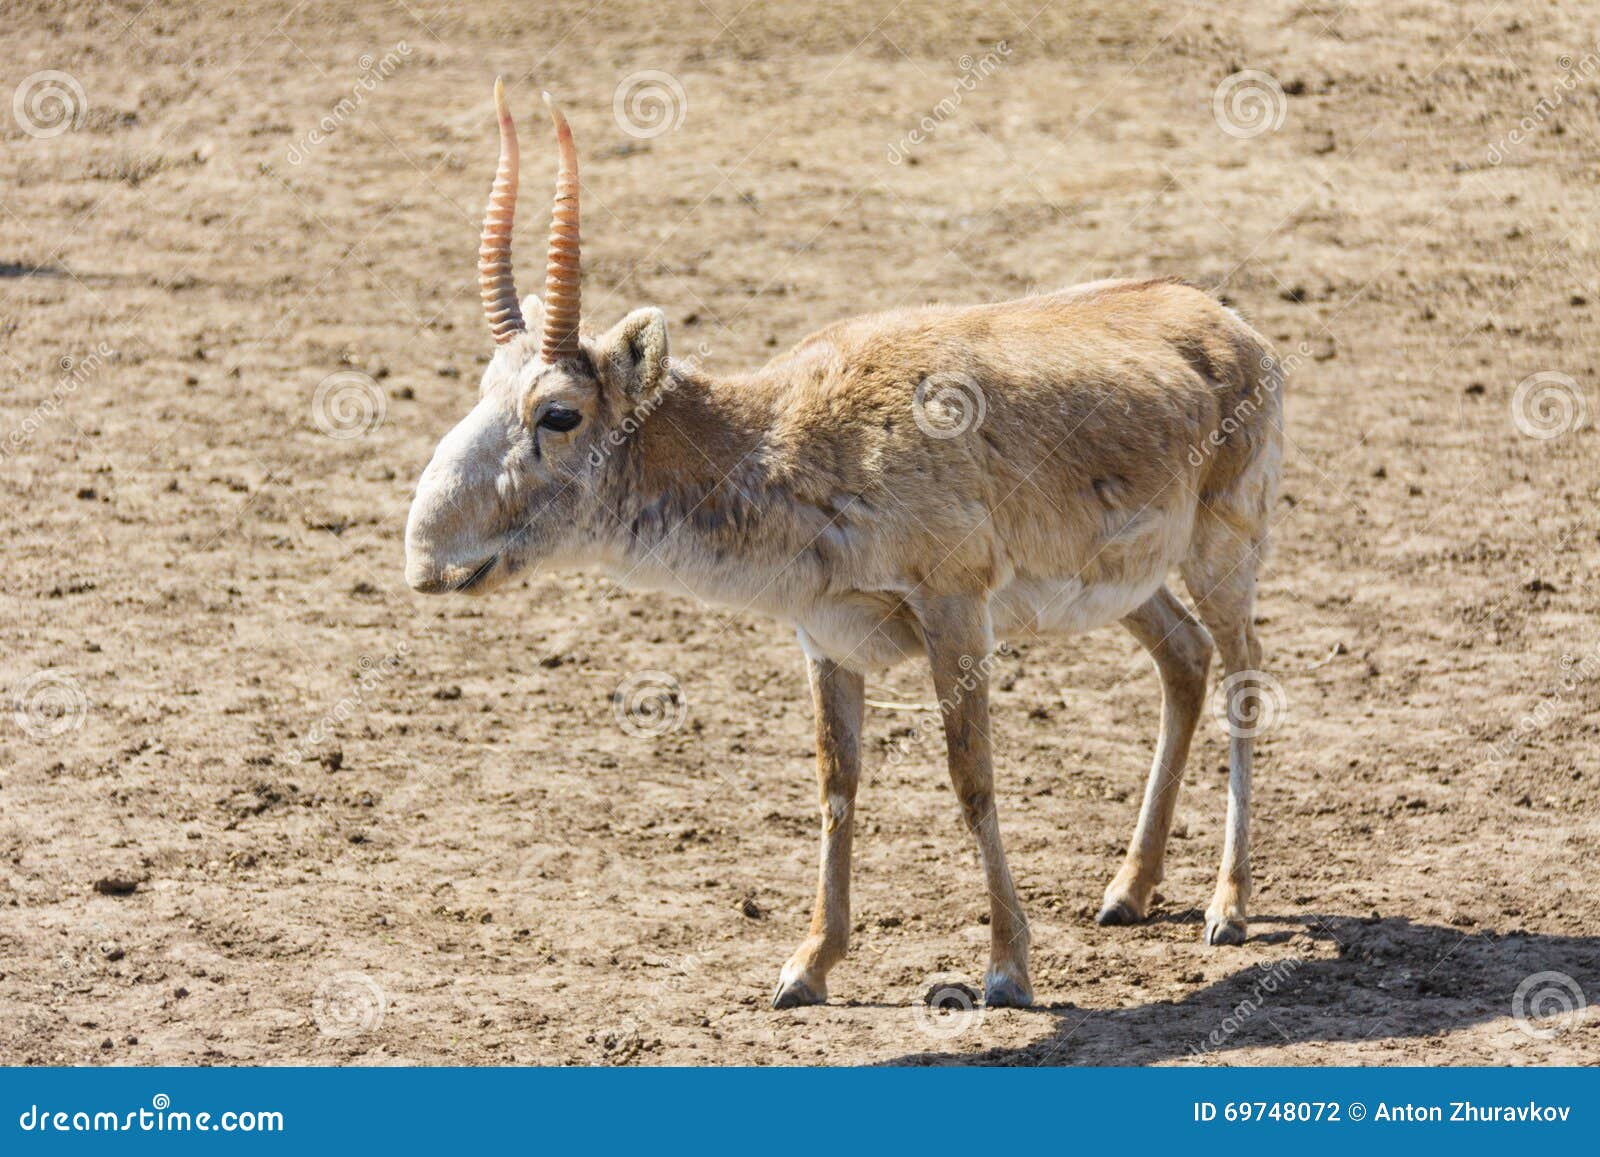saiga: (402, 71, 1280, 1003)
